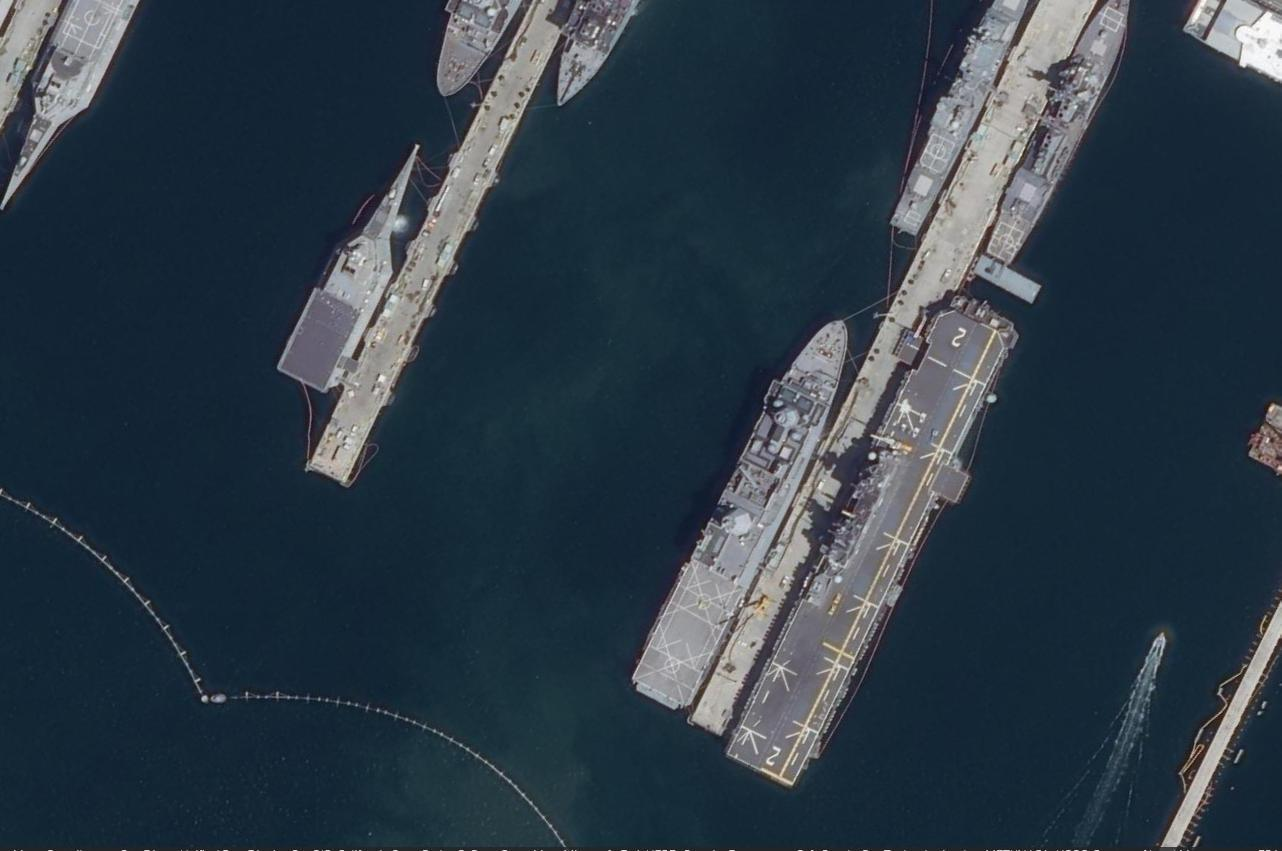amphiby: (626, 307, 855, 717), (272, 136, 433, 400)
pha: (720, 285, 1028, 797)
